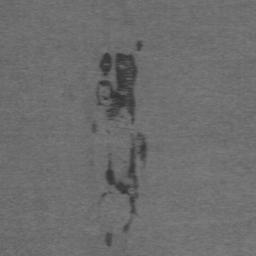Iron scale compression: (105, 131, 147, 233), (96, 52, 137, 125), (104, 234, 112, 248), (91, 119, 97, 134), (137, 40, 143, 52)
